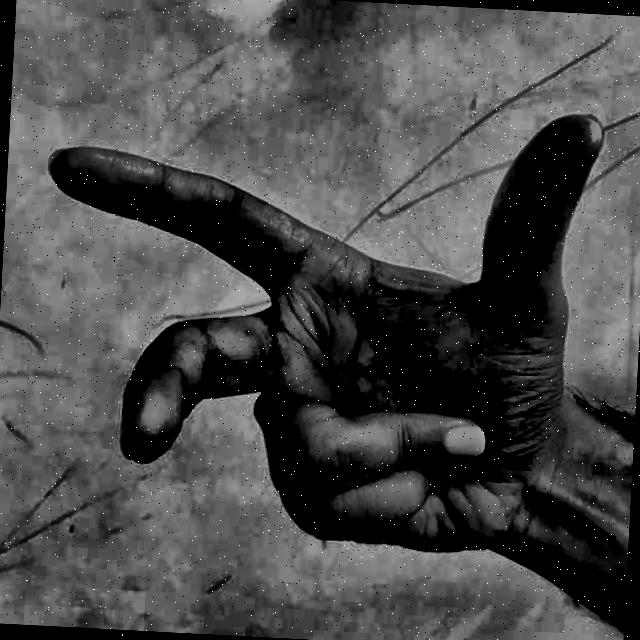Da: (15, 42, 630, 620)
